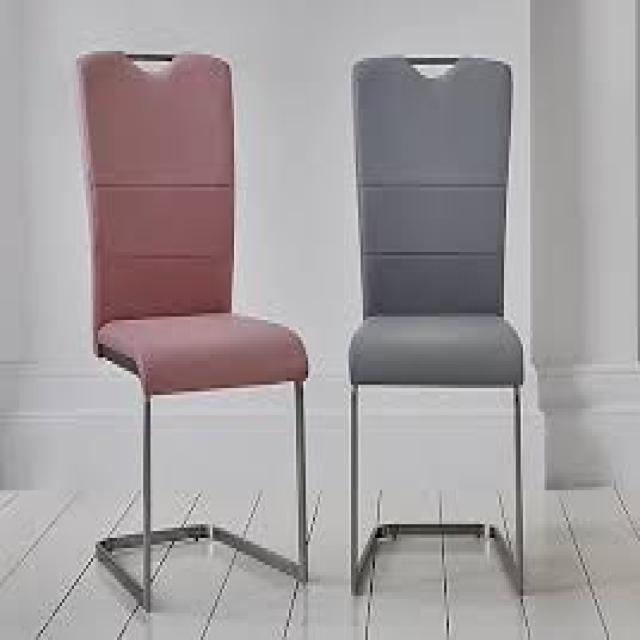chair: (31, 30, 338, 634), (339, 29, 564, 640)
